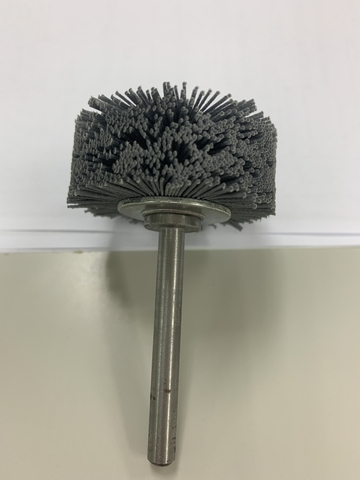Wheel Brush: (49, 71, 293, 470), (105, 80, 304, 463), (56, 79, 317, 305), (106, 77, 257, 455)
